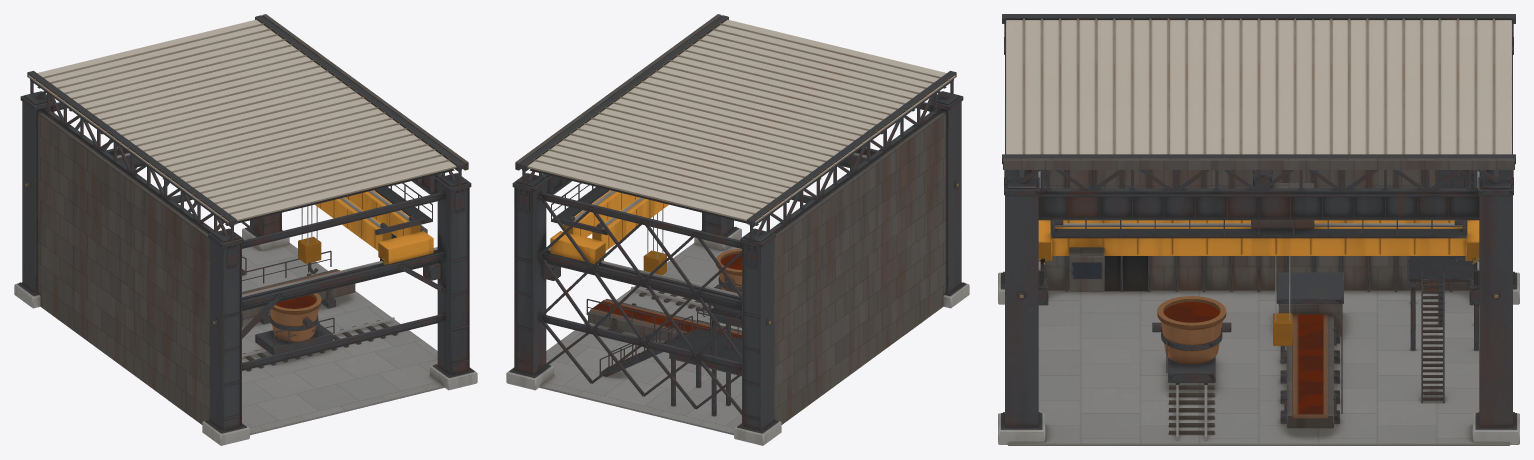
Rendered from pourBay.glb.
3 views of the same model, side by side, from view 1: azimuth 30°, elevation 25°; view 2: azimuth 150°, elevation 25°; view 3: azimuth 270°, elevation 25° (orthographic). The views are drawn at different scales.
Parts seen in each view (by area): view 1: pourBay; view 2: pourBay; view 3: pourBay.
Part boxes in pixels (x1=…): pourBay: x1=14, y1=14, x2=477, y2=445; pourBay: x1=506, y1=14, x2=969, y2=445; pourBay: x1=998, y1=14, x2=1519, y2=445.
Bounding box in the file's own units: 19.1 × 15.77 × 26.4.
1 material, 1 textured.
